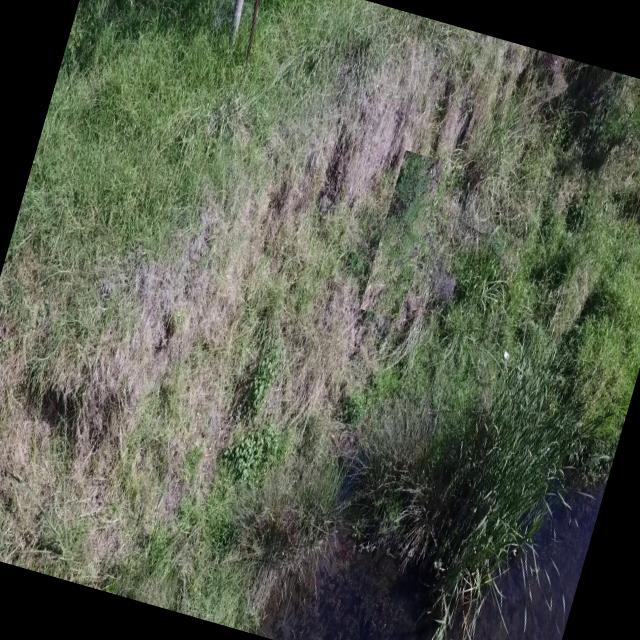Mysore-Thorn-Weed: (360, 150, 444, 320)
